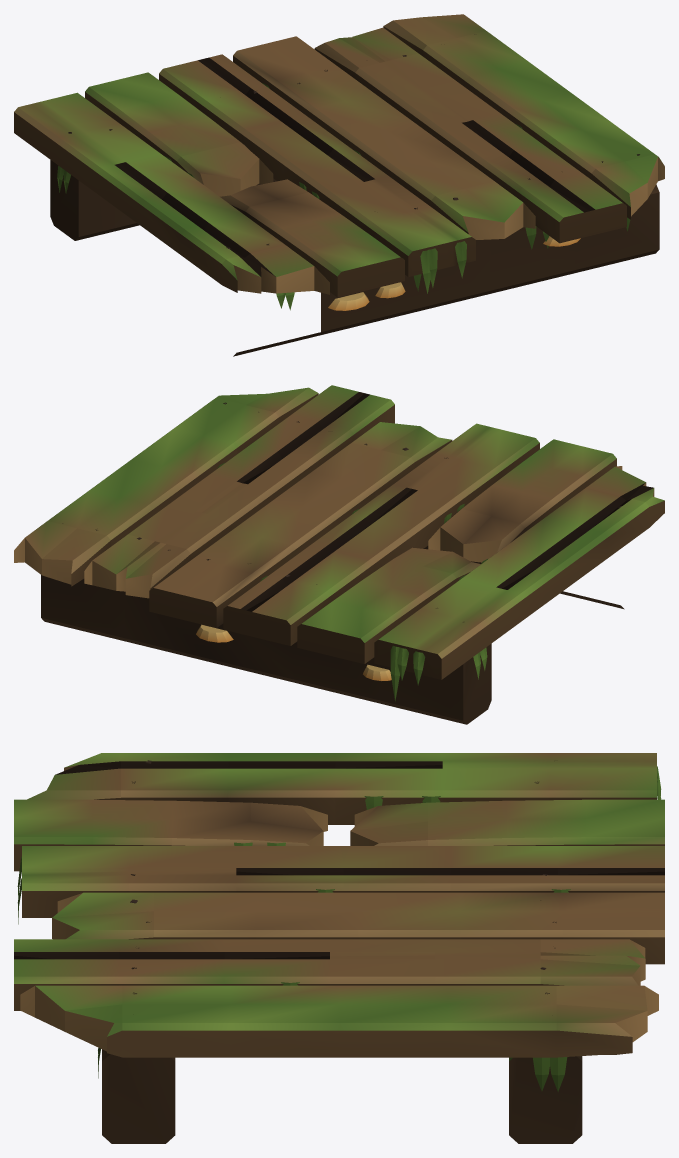
File: crumble_jungle.glb
3 views of the same model, one above another, from view 1: azimuth 30°, elevation 25°; view 2: azimuth 150°, elevation 25°; view 3: azimuth 270°, elevation 25° (orthographic). The views are drawn at different scales.
Visible parts, largest first — view 1: crumble_jungle; view 2: crumble_jungle; view 3: crumble_jungle.
Part boxes in pixels (box(x1,y1,x2,y2)): crumble_jungle: box(14, 14, 664, 356); crumble_jungle: box(14, 385, 664, 724); crumble_jungle: box(14, 753, 664, 1143).
Bounding box in the file's own units: 2.4 × 0.5 × 2.4.
